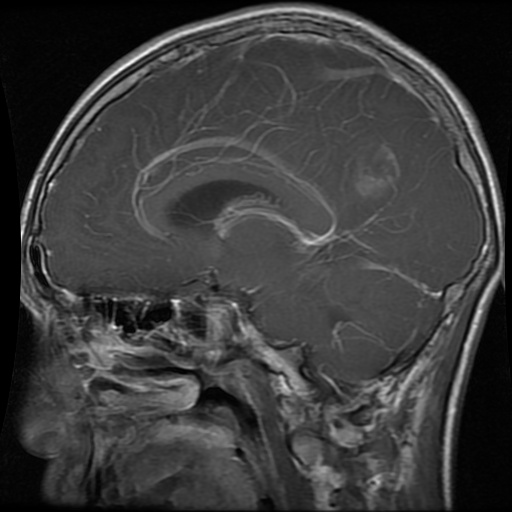glioma: (353, 139, 402, 195)
